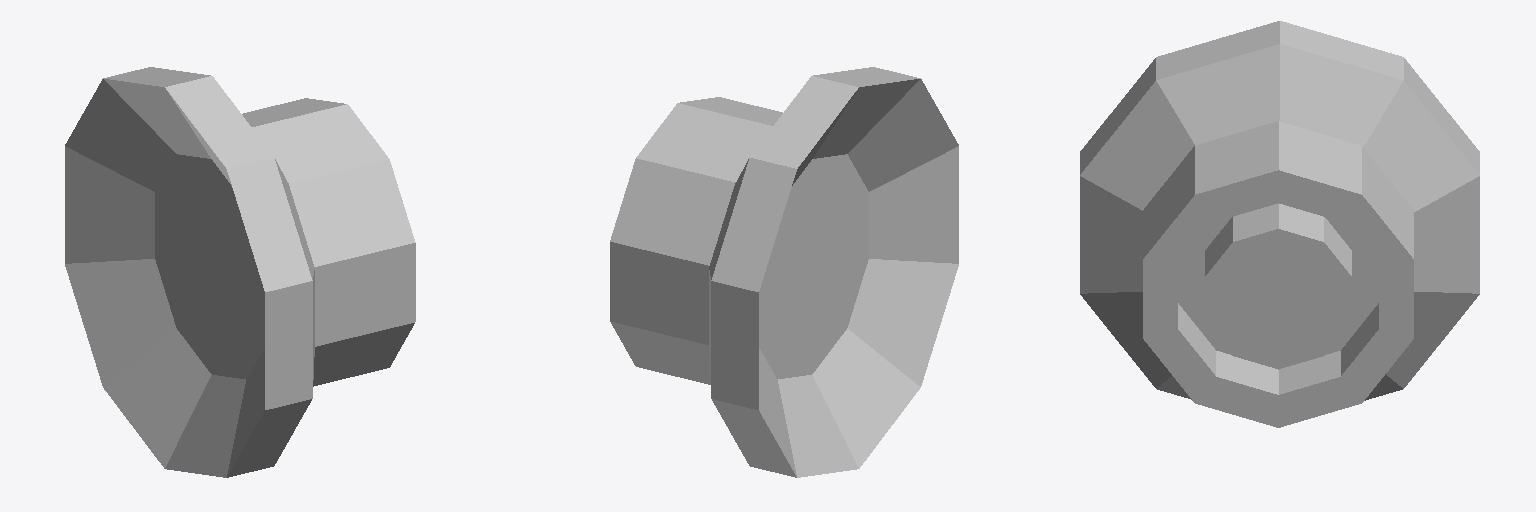
The model's file is Knob.obj.
3 renders of one model, left to right at view 1: azimuth 30°, elevation 25°; view 2: azimuth 150°, elevation 25°; view 3: azimuth 270°, elevation 25°, orthographic.
Parts seen in each view (by area): view 1: nob2_pCylinder3; view 2: nob2_pCylinder3; view 3: nob2_pCylinder3.
Part boxes in pixels (bbox=[...]): nob2_pCylinder3: bbox=[65, 67, 415, 477]; nob2_pCylinder3: bbox=[610, 67, 958, 477]; nob2_pCylinder3: bbox=[1080, 21, 1479, 427].
Size of the model in its own units: 0.46 by 0.9204 by 0.8754.